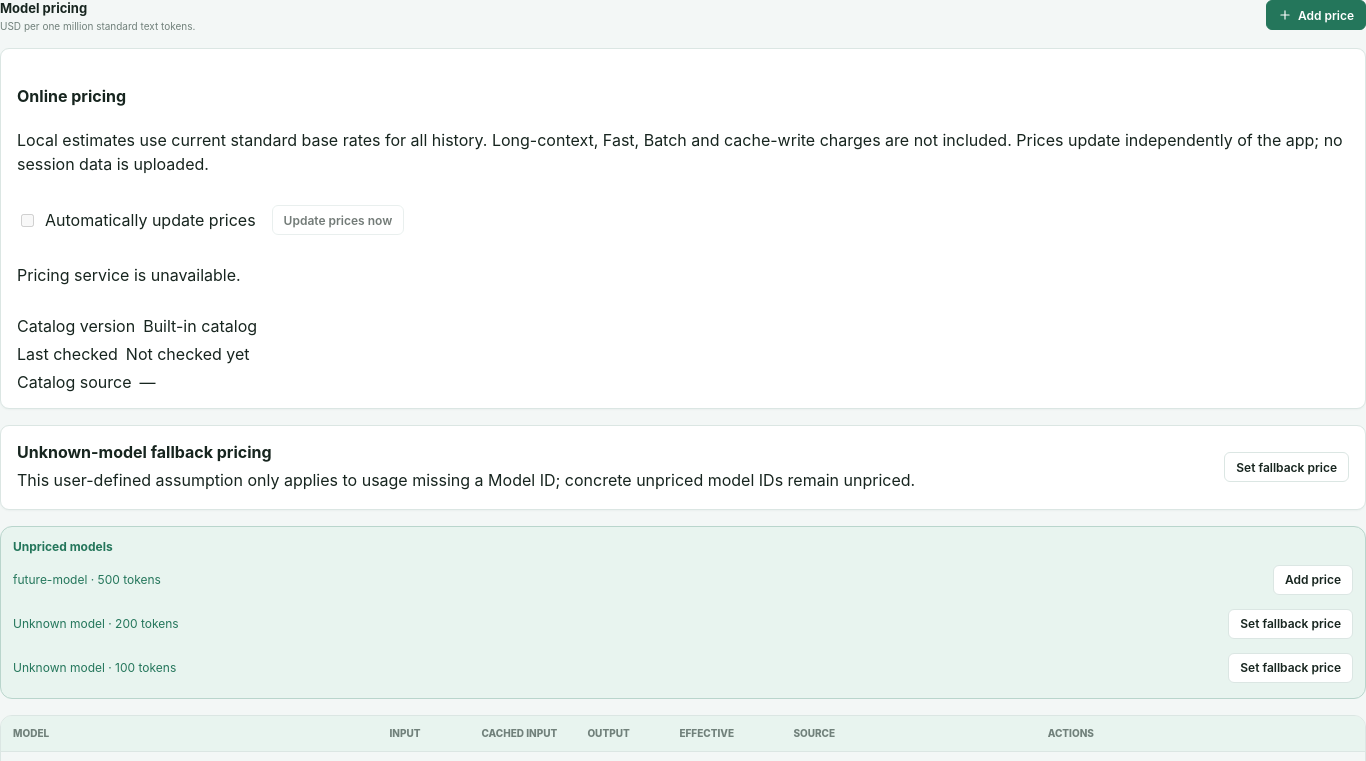
Test: ModelPricingView › uses an editable model combobox with current, unpriced, and one unknown option
Click the button "Add price" in the row of "Model pricing" at (1316, 15), box [1266,0,1365,30]
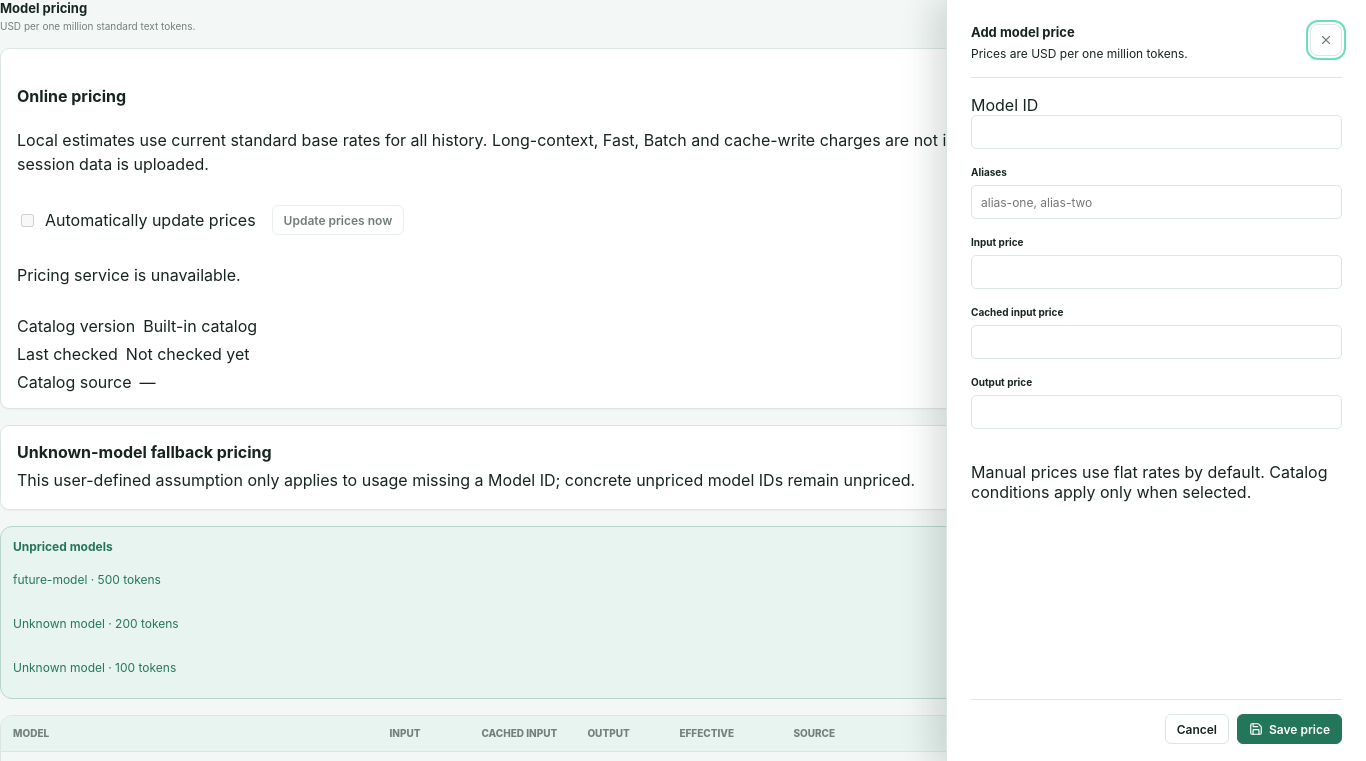
Focus the dropdown labelled "Model ID" at (1156, 132), box [971,115,1342,149]
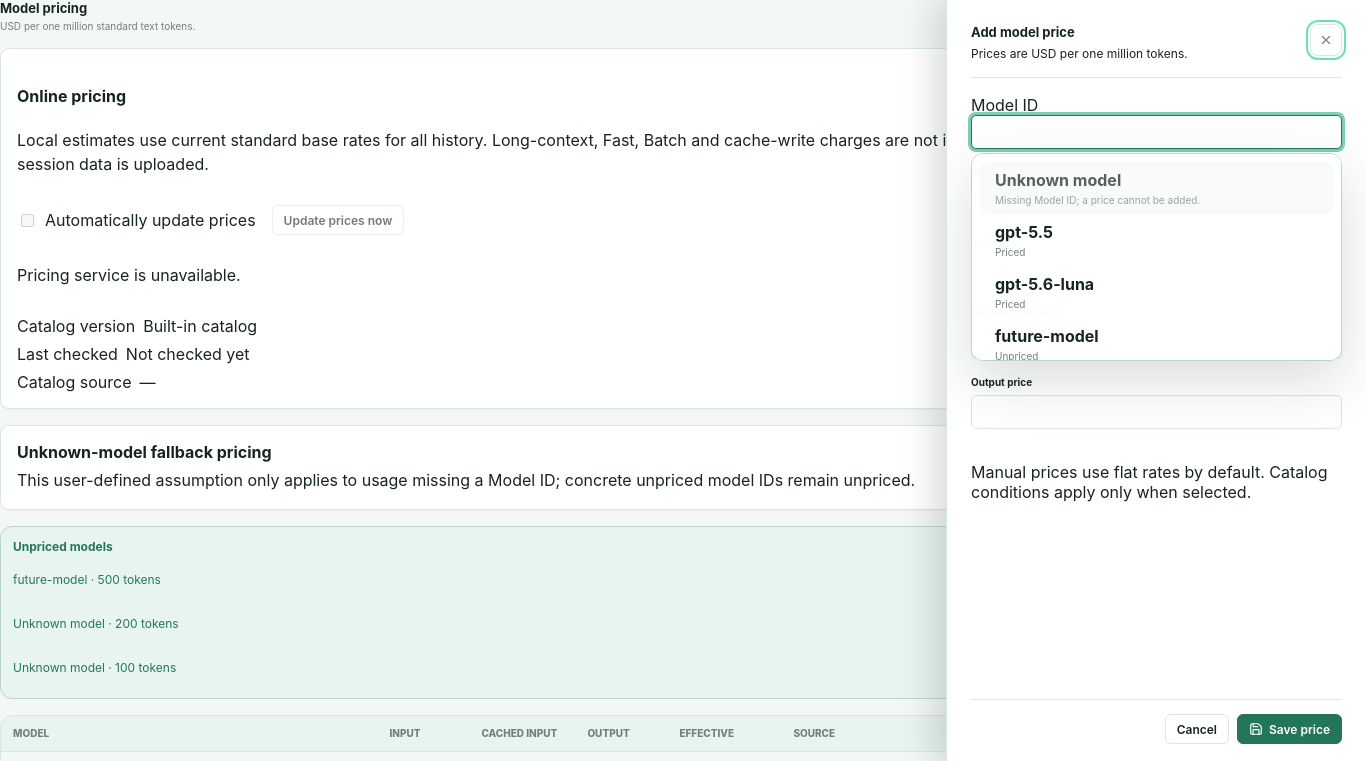
Check: the option "gpt-5.5 Priced" is shown, box [995,222,1053,258]
Check: the option "future-model Unpriced" is shown, box [995,326,1099,361]
Check: the number of options "Unknown model Missing Model ID; a price cannot be added." is 1, box [980,162,1333,214]
